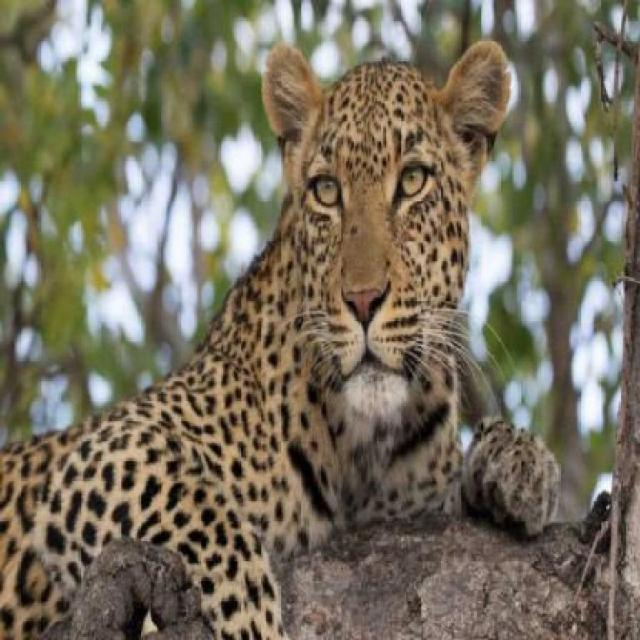Leopard: (7, 64, 631, 570)
